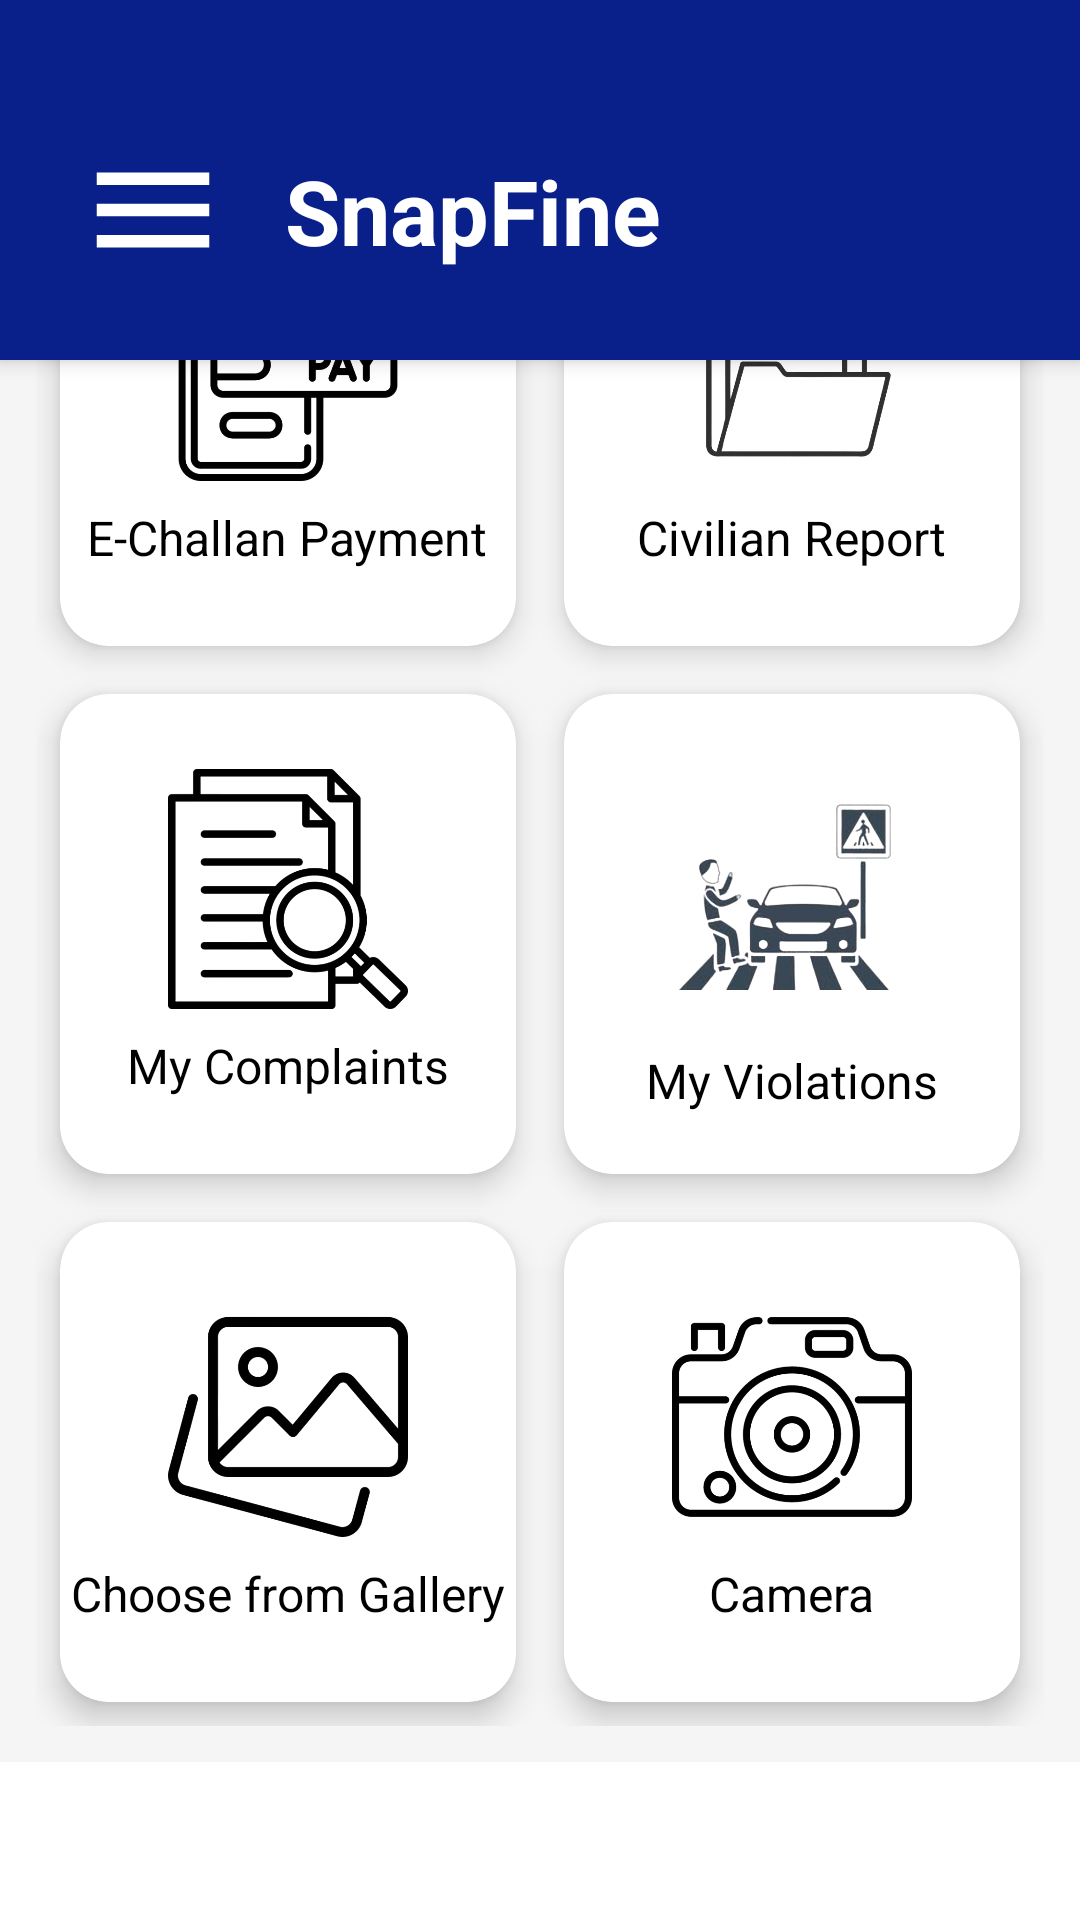

Where to tap for icons on this 1080w x 1920h app screen, as (x,y):
Toggle Drawer: (153,210)
